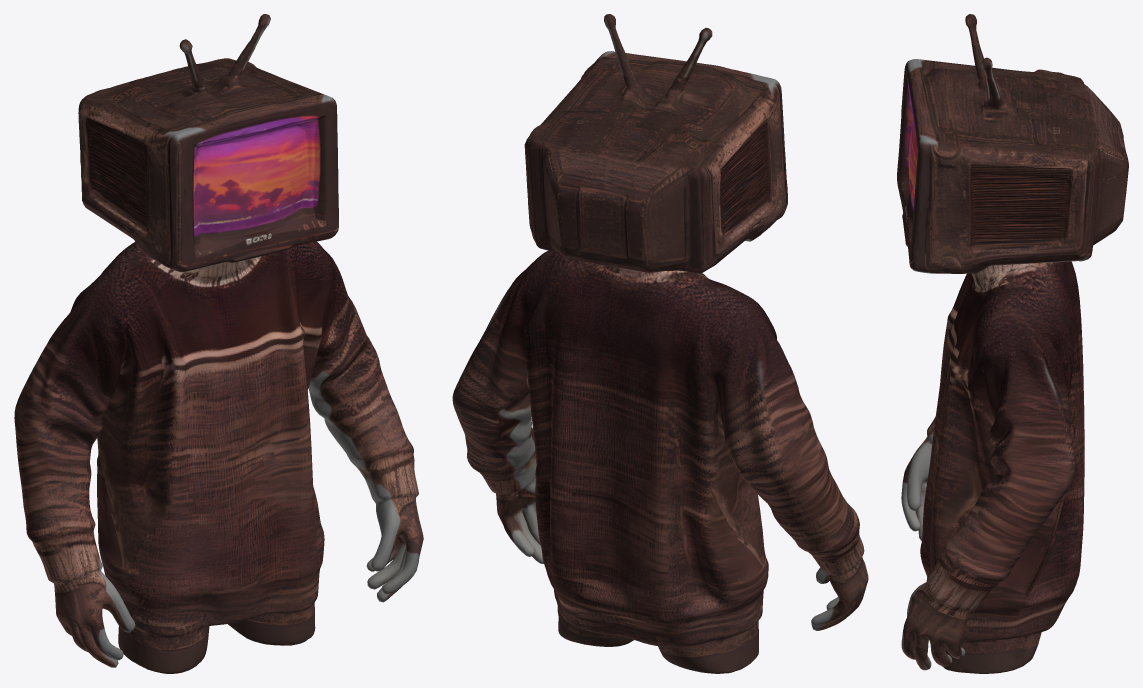
The model's file is crt-character-articulated.glb.
3 renders of one model, left to right at view 1: azimuth 30°, elevation 25°; view 2: azimuth 150°, elevation 25°; view 3: azimuth 270°, elevation 25°, orthographic. The views are drawn at different scales.
Visible parts, largest first — view 1: Body, CRTHead; view 2: Body, CRTHead; view 3: Body, CRTHead.
Boxes of the visible parts, x1,y1,x2,y2 form: Body: (14, 241, 423, 673); CRTHead: (78, 14, 338, 272); Body: (452, 250, 868, 673); CRTHead: (524, 14, 787, 273); Body: (901, 261, 1084, 673); CRTHead: (897, 14, 1128, 273).
Bounding box in the file's own units: 0.6392 × 0.9999 × 0.3487.
Materials: 2 (1 with a texture image).
